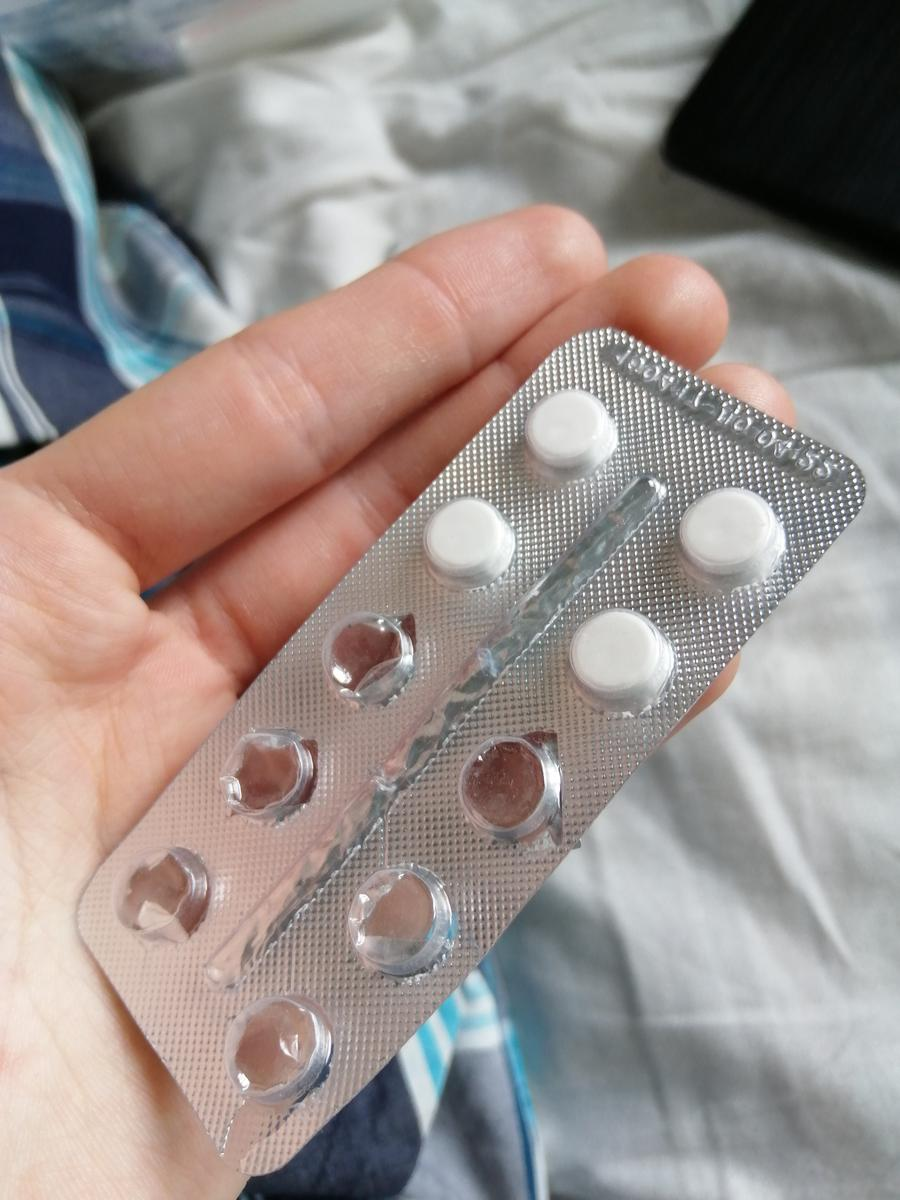tablet: (563, 610, 679, 710), (675, 485, 787, 583), (522, 385, 620, 473), (419, 495, 513, 582)
